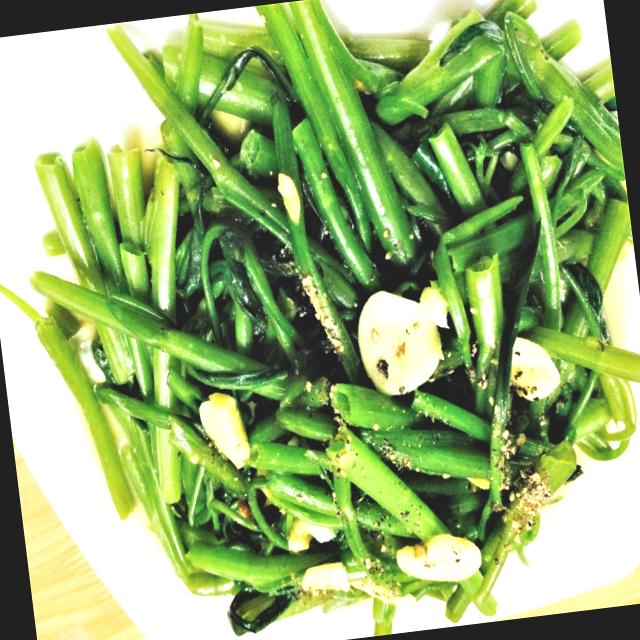rau muong: (0, 0, 640, 636)
